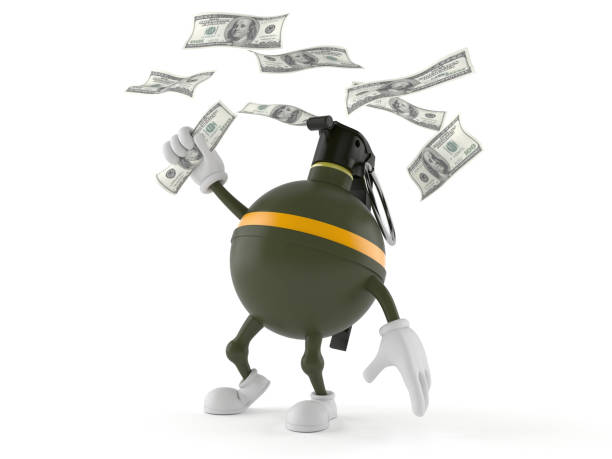e1: (228, 114, 389, 337)
